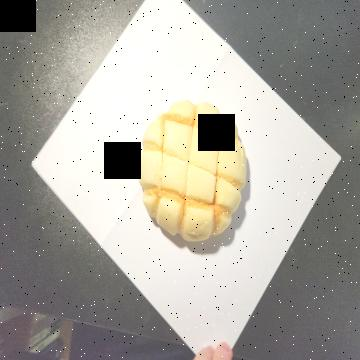melon_bread: (137, 100, 247, 243)
